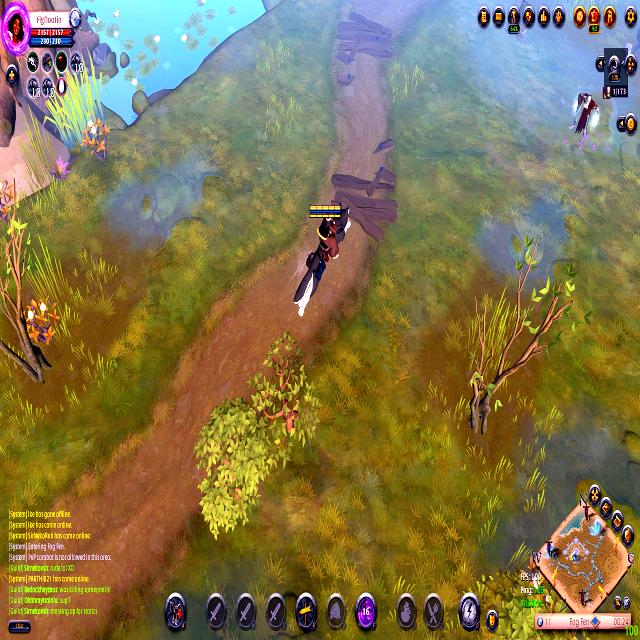hide: (19, 294, 62, 356), (78, 114, 112, 166), (0, 168, 17, 232)
ore: (563, 80, 606, 152)
red: (287, 185, 363, 329)
